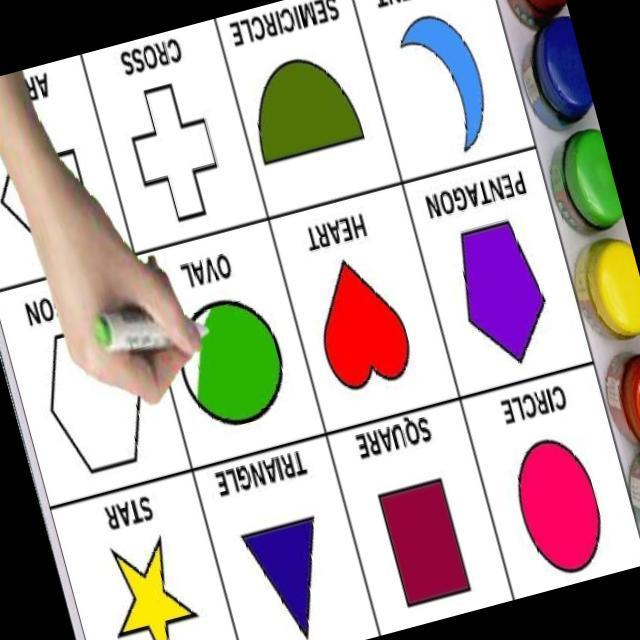circle: (498, 416, 619, 582), (168, 286, 298, 432)
cross: (116, 68, 232, 232)
square: (366, 453, 492, 625)
triangle: (210, 478, 348, 640)
